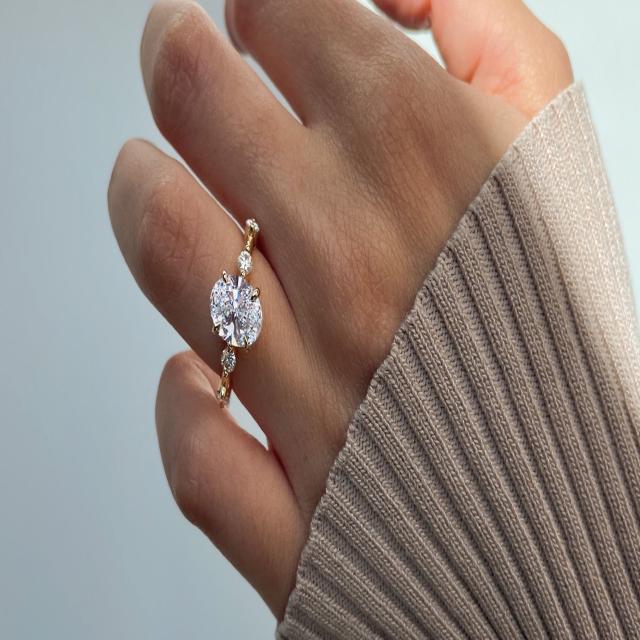Ring: (197, 190, 280, 432)
